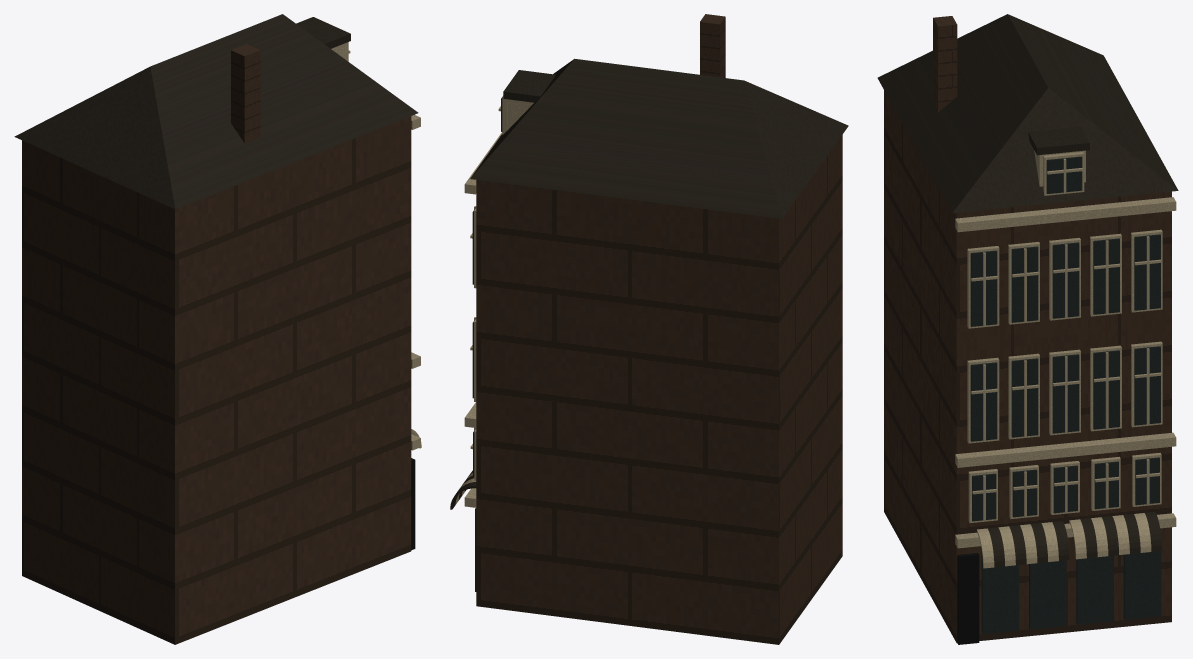
3 views of the same model, side by side, from view 1: azimuth 30°, elevation 25°; view 2: azimuth 150°, elevation 25°; view 3: azimuth 270°, elevation 25° (orthographic). The views are drawn at different scales.
Visible parts, largest first — view 1: posthoornsteeg1-0, posthoornsteeg1-1, posthoornsteeg1-2; view 2: posthoornsteeg1-0, posthoornsteeg1-1, posthoornsteeg1-2, posthoornsteeg1-3; view 3: posthoornsteeg1-0, posthoornsteeg1-1, posthoornsteeg1-3, posthoornsteeg1-2, posthoornsteeg1-4.
Part boxes in pixels (x1,y1,x2,y2): posthoornsteeg1-0: (22,44,411,644); posthoornsteeg1-1: (14,14,418,209); posthoornsteeg1-2: (331,42,421,450); posthoornsteeg1-0: (476,14,842,644); posthoornsteeg1-1: (450,58,848,509); posthoornsteeg1-2: (455,96,533,507); posthoornsteeg1-3: (472,96,502,591); posthoornsteeg1-0: (884,16,1171,642); posthoornsteeg1-1: (877,14,1178,567); posthoornsteeg1-3: (970,156,1161,633); posthoornsteeg1-2: (955,150,1176,568); posthoornsteeg1-4: (957,553,979,644).
Bounding box in the file's own units: 12 × 18.1 × 9.16.
5 materials, 5 textured.
